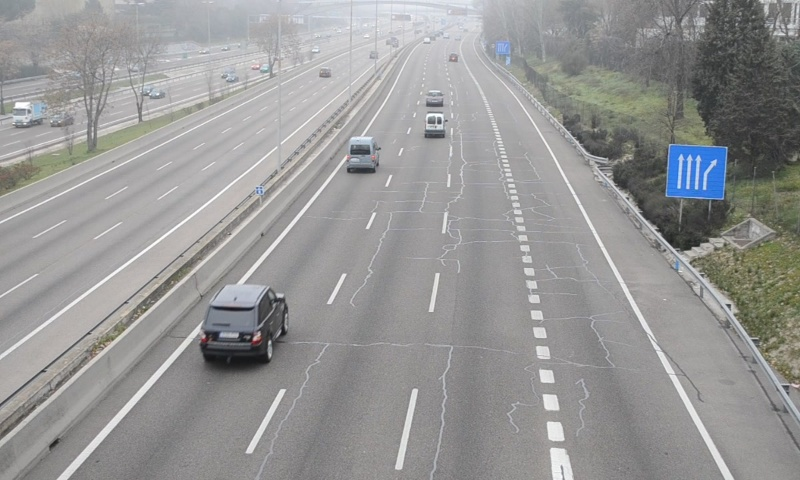car: (200, 284, 289, 358), (423, 89, 444, 107)
van: (346, 136, 380, 170), (423, 112, 445, 137)
